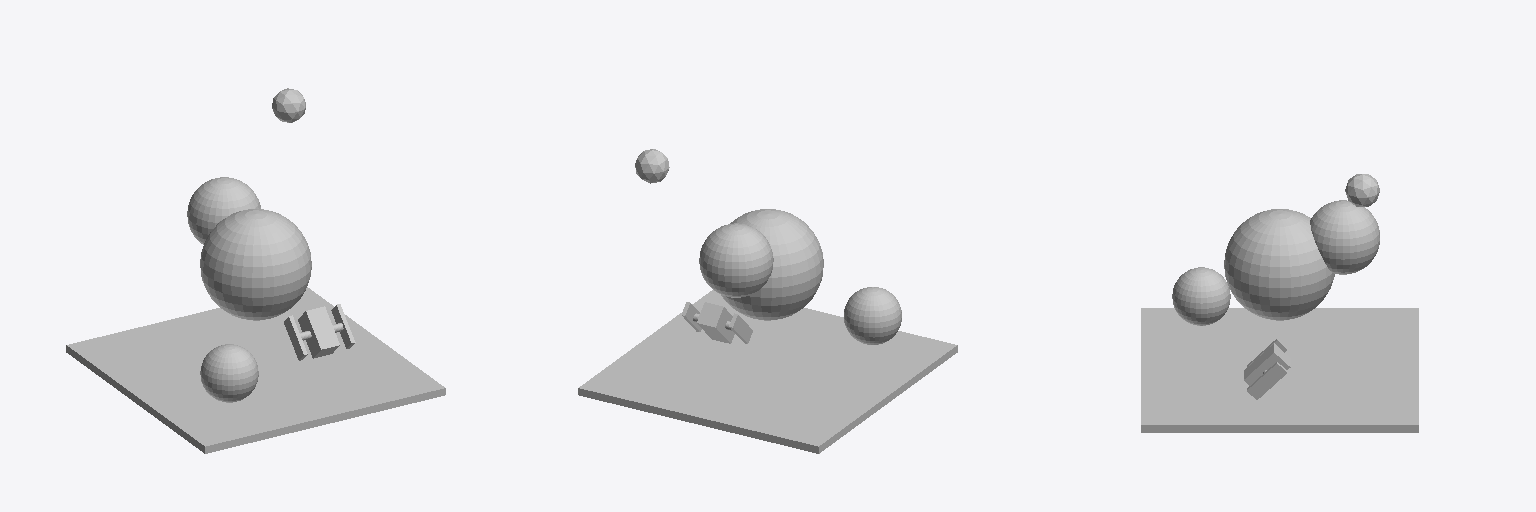
Rendered from DioramaEspacio.obj.
3 views of the same model, side by side, from view 1: azimuth 30°, elevation 25°; view 2: azimuth 150°, elevation 25°; view 3: azimuth 270°, elevation 25° (orthographic).
Visible parts, largest first — view 1: Floor_Cube.001, BigPlanet_Sphere, SmallPlanet_Sphere.001, NormalPlanet_Sphere.002, Satelite1_Cube.002, Meteor_Icosphere; view 2: Floor_Cube.001, BigPlanet_Sphere, SmallPlanet_Sphere.001, NormalPlanet_Sphere.002, Satelite1_Cube.002, Meteor_Icosphere; view 3: Floor_Cube.001, BigPlanet_Sphere, SmallPlanet_Sphere.001, NormalPlanet_Sphere.002, Meteor_Icosphere, Satelite1_Cube.002, Satelite4_Cube.004.
Part boxes in pixels (x1,y1,x2,y2): Floor_Cube.001: (66, 287, 445, 453); BigPlanet_Sphere: (200, 209, 311, 320); SmallPlanet_Sphere.001: (187, 177, 260, 244); NormalPlanet_Sphere.002: (200, 344, 258, 402); Satelite1_Cube.002: (298, 306, 339, 358); Meteor_Icosphere: (272, 88, 305, 122); Floor_Cube.001: (578, 290, 957, 453); BigPlanet_Sphere: (721, 209, 823, 320); SmallPlanet_Sphere.001: (699, 223, 773, 297); NormalPlanet_Sphere.002: (844, 287, 901, 344); Satelite1_Cube.002: (697, 302, 734, 343); Meteor_Icosphere: (635, 149, 669, 183); Floor_Cube.001: (1141, 308, 1418, 432); BigPlanet_Sphere: (1224, 209, 1334, 320); SmallPlanet_Sphere.001: (1310, 200, 1379, 274); NormalPlanet_Sphere.002: (1172, 267, 1230, 325); Meteor_Icosphere: (1345, 174, 1379, 206); Satelite1_Cube.002: (1244, 343, 1290, 385); Satelite4_Cube.004: (1247, 362, 1287, 399).
Bounding box in the file's own units: 15.68 × 14.7 × 15.68.